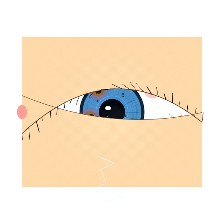foreign_body_visible: (65, 99, 115, 138)
